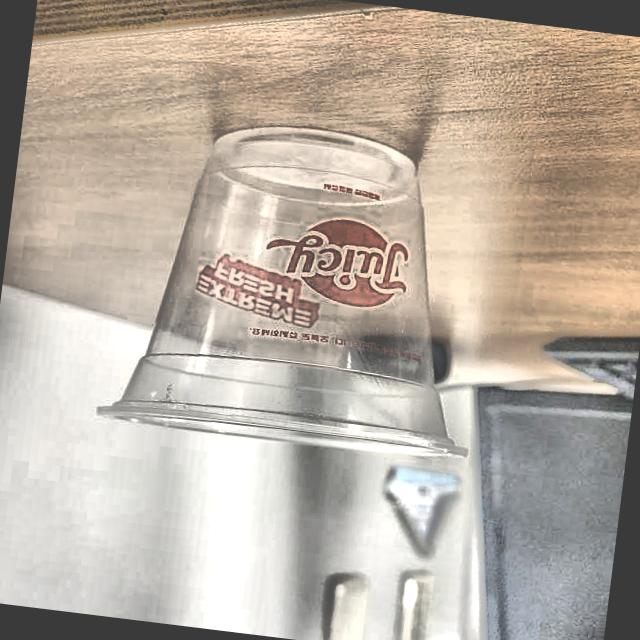plastic cup: (92, 106, 510, 465)
